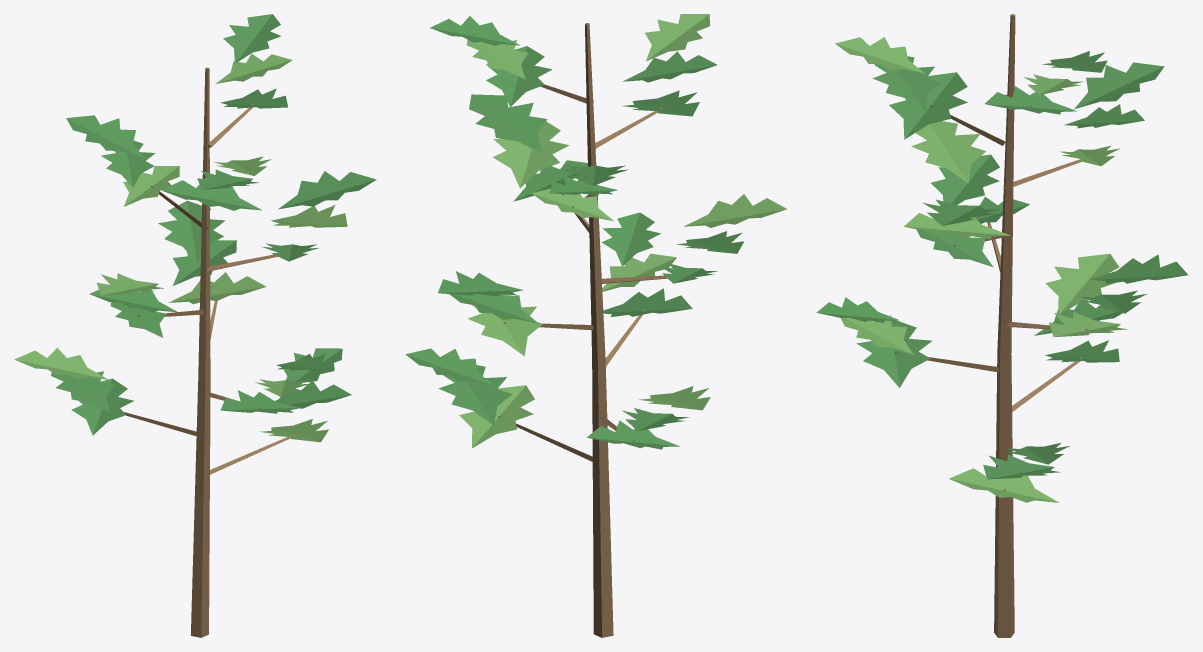
Rendered from oak_sapling_02.glb.
The picture shows the model from 3 angles, left to right: view 1: azimuth 30°, elevation 25°; view 2: azimuth 150°, elevation 25°; view 3: azimuth 270°, elevation 25°; orthographic projection. The views are drawn at different scales.
Visible parts, largest first — view 1: Oak_sapling_800_02; view 2: Oak_sapling_800_02; view 3: Oak_sapling_800_02.
Part boxes in pixels (bbox=[...]): Oak_sapling_800_02: bbox=[14, 14, 376, 637]; Oak_sapling_800_02: bbox=[405, 14, 787, 637]; Oak_sapling_800_02: bbox=[816, 14, 1188, 637].
Bounding box in the file's own units: 1.35 × 2.4 × 1.3.
